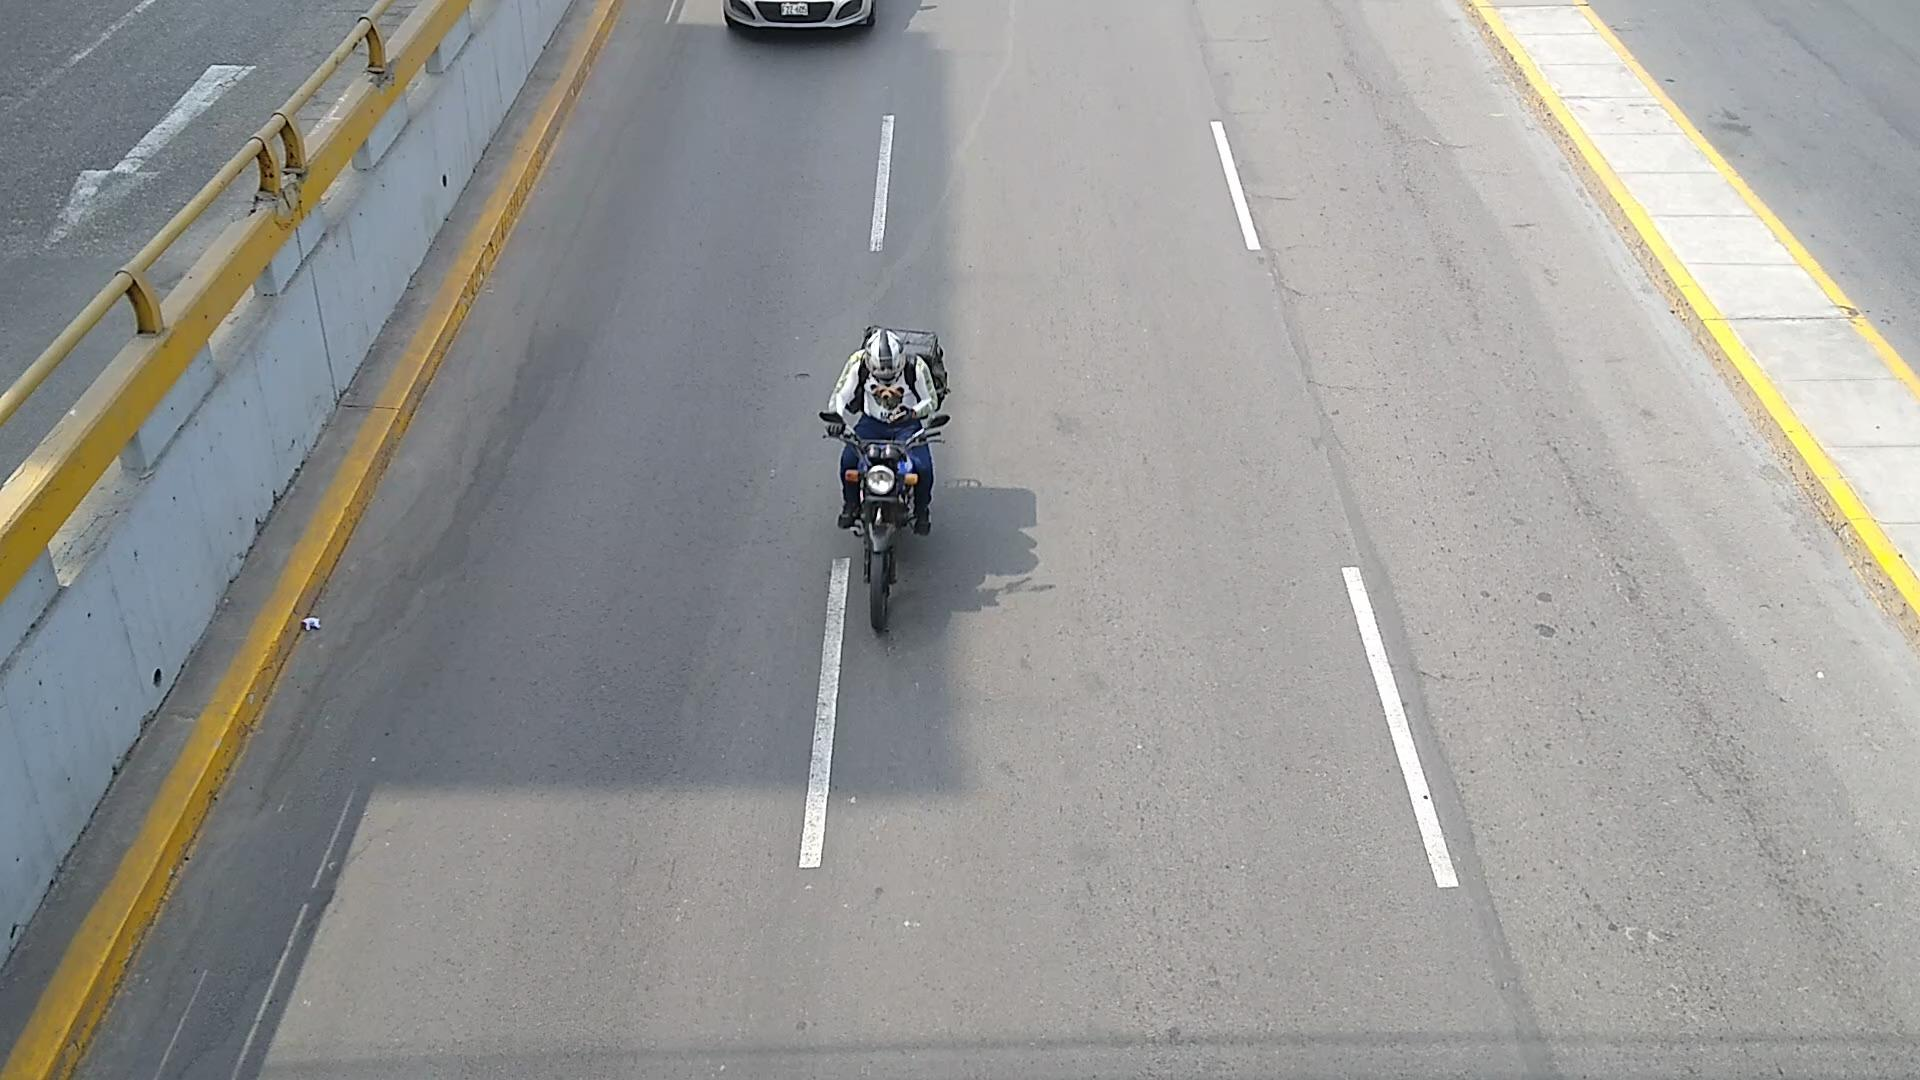motorcycle: (840, 417, 945, 630)
motorcyclist: (822, 330, 948, 630)
